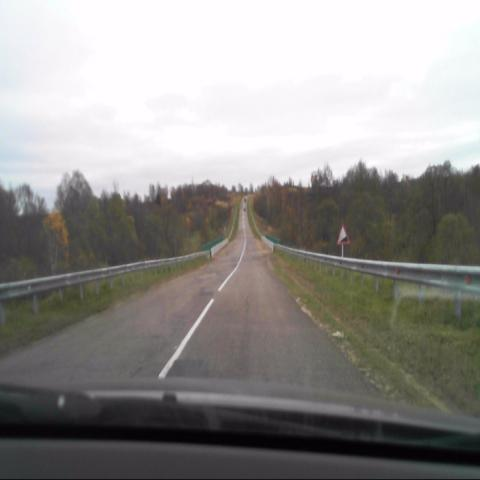1_14: (336, 225, 350, 245)
